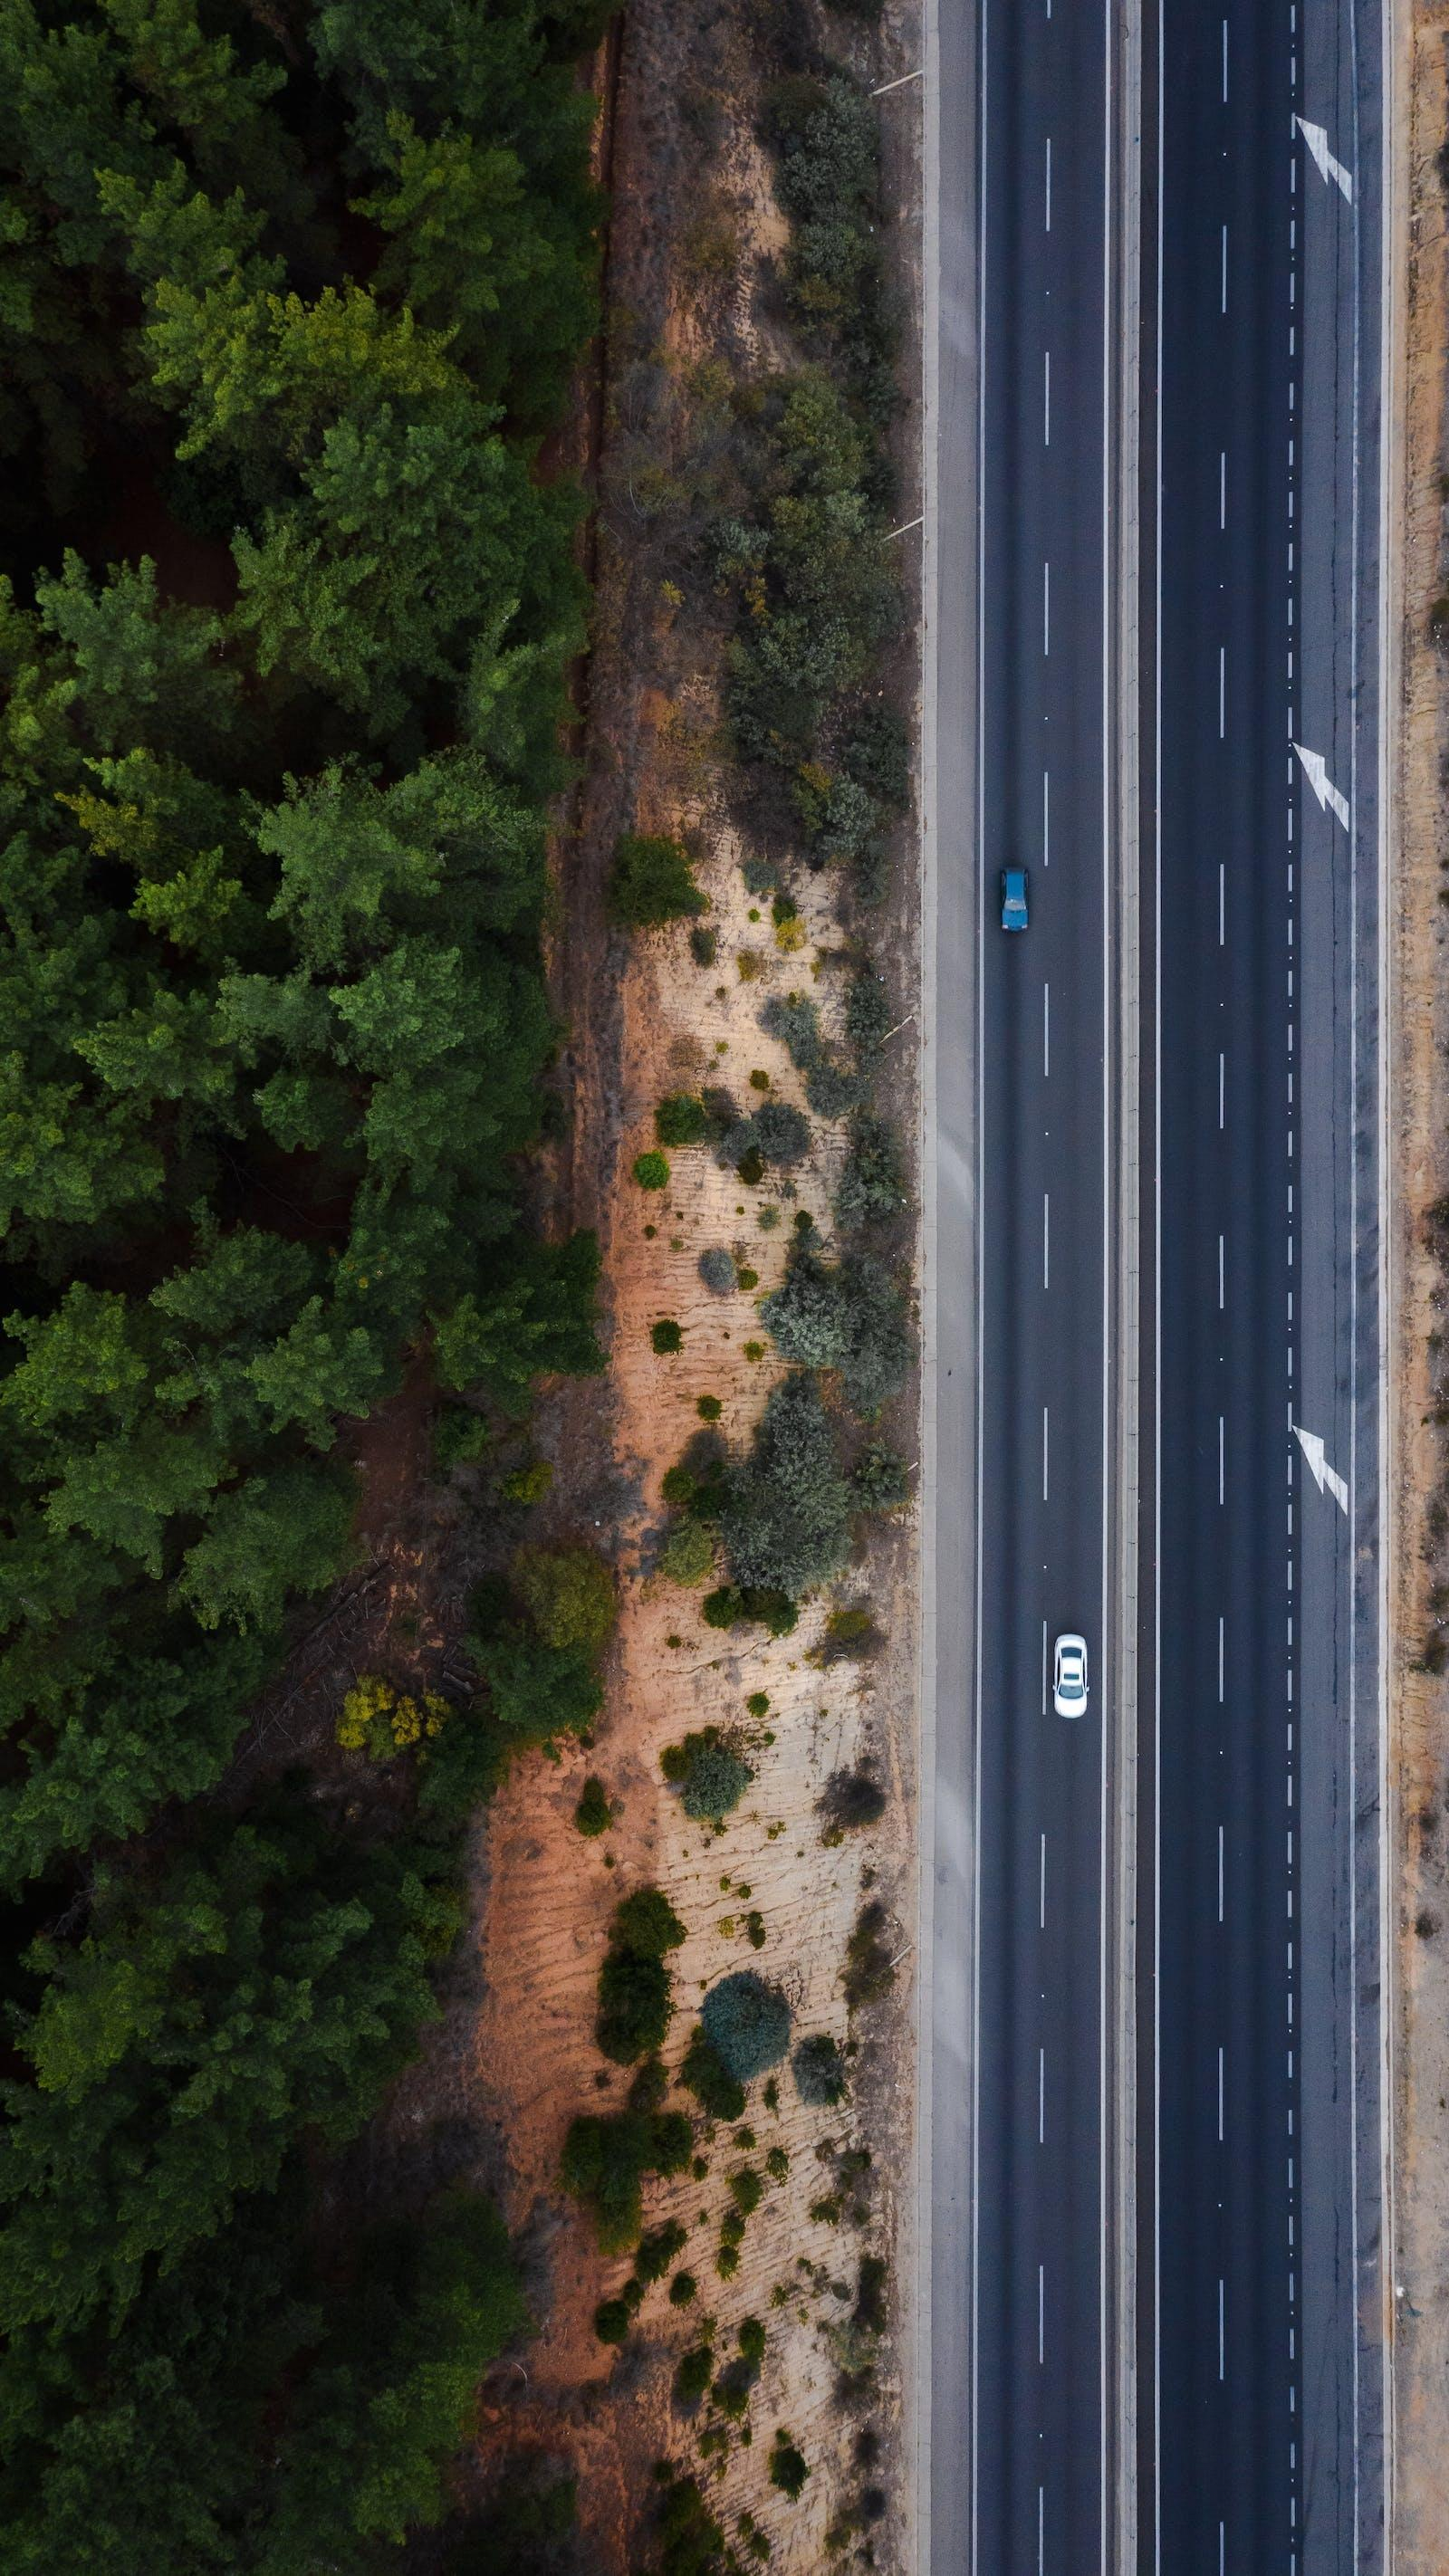field: (0, 0, 623, 2574), (688, 42, 906, 872), (724, 962, 902, 1589)
road: (936, 0, 1387, 2574)
